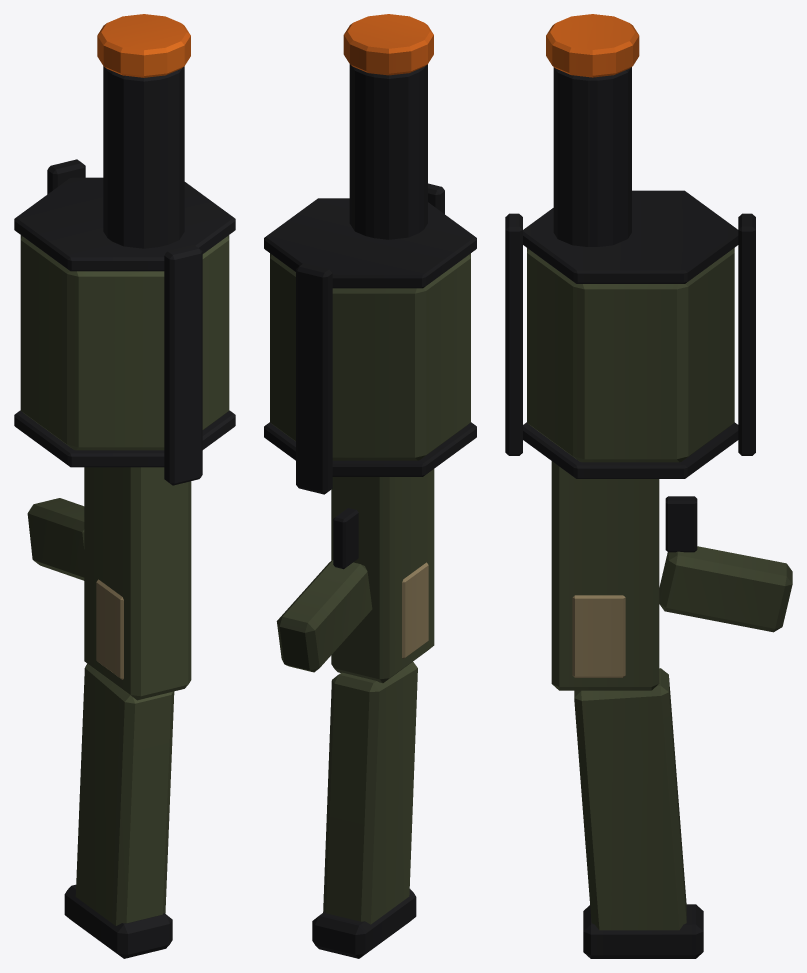
Rendered from popper.glb.
3 views of the same model, side by side, from view 1: azimuth 30°, elevation 25°; view 2: azimuth 150°, elevation 25°; view 3: azimuth 270°, elevation 25° (orthographic). The views are drawn at different scales.
Parts seen in each view (by area): view 1: popper; view 2: popper; view 3: popper.
Part boxes in pixels (bbox=[...]): popper: bbox=[14, 14, 235, 958]; popper: bbox=[264, 14, 476, 958]; popper: bbox=[505, 14, 792, 958].
Size of the model in its own units: 0.1524 by 0.799 by 0.2269.
